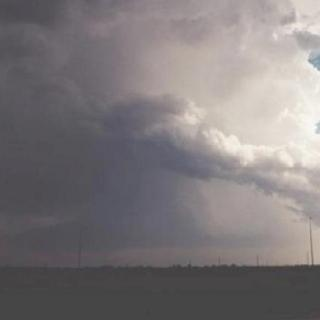Cumulonimbus: (0, 1, 320, 254)
